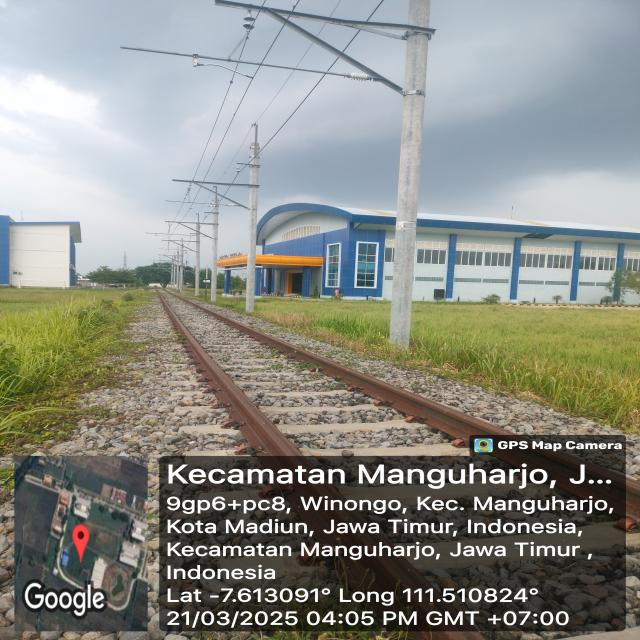rail-detection: (174, 295, 522, 444), (156, 291, 301, 456), (600, 468, 640, 519)
